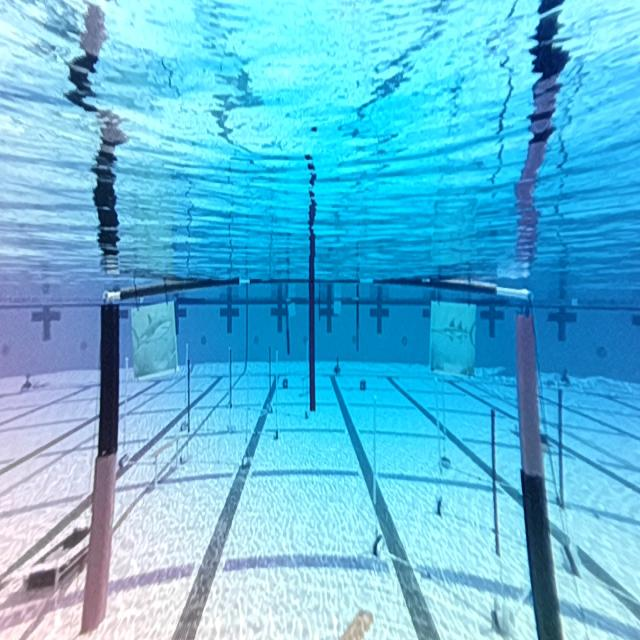pointed_nose: (425, 300, 483, 358)
round_nose: (133, 306, 179, 360)
